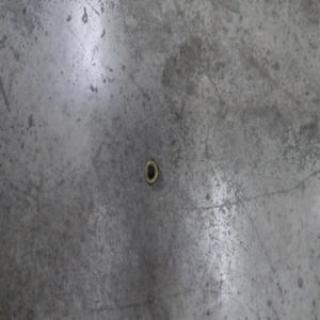Nuttrack_idkeyframe: (143, 158, 158, 187)
